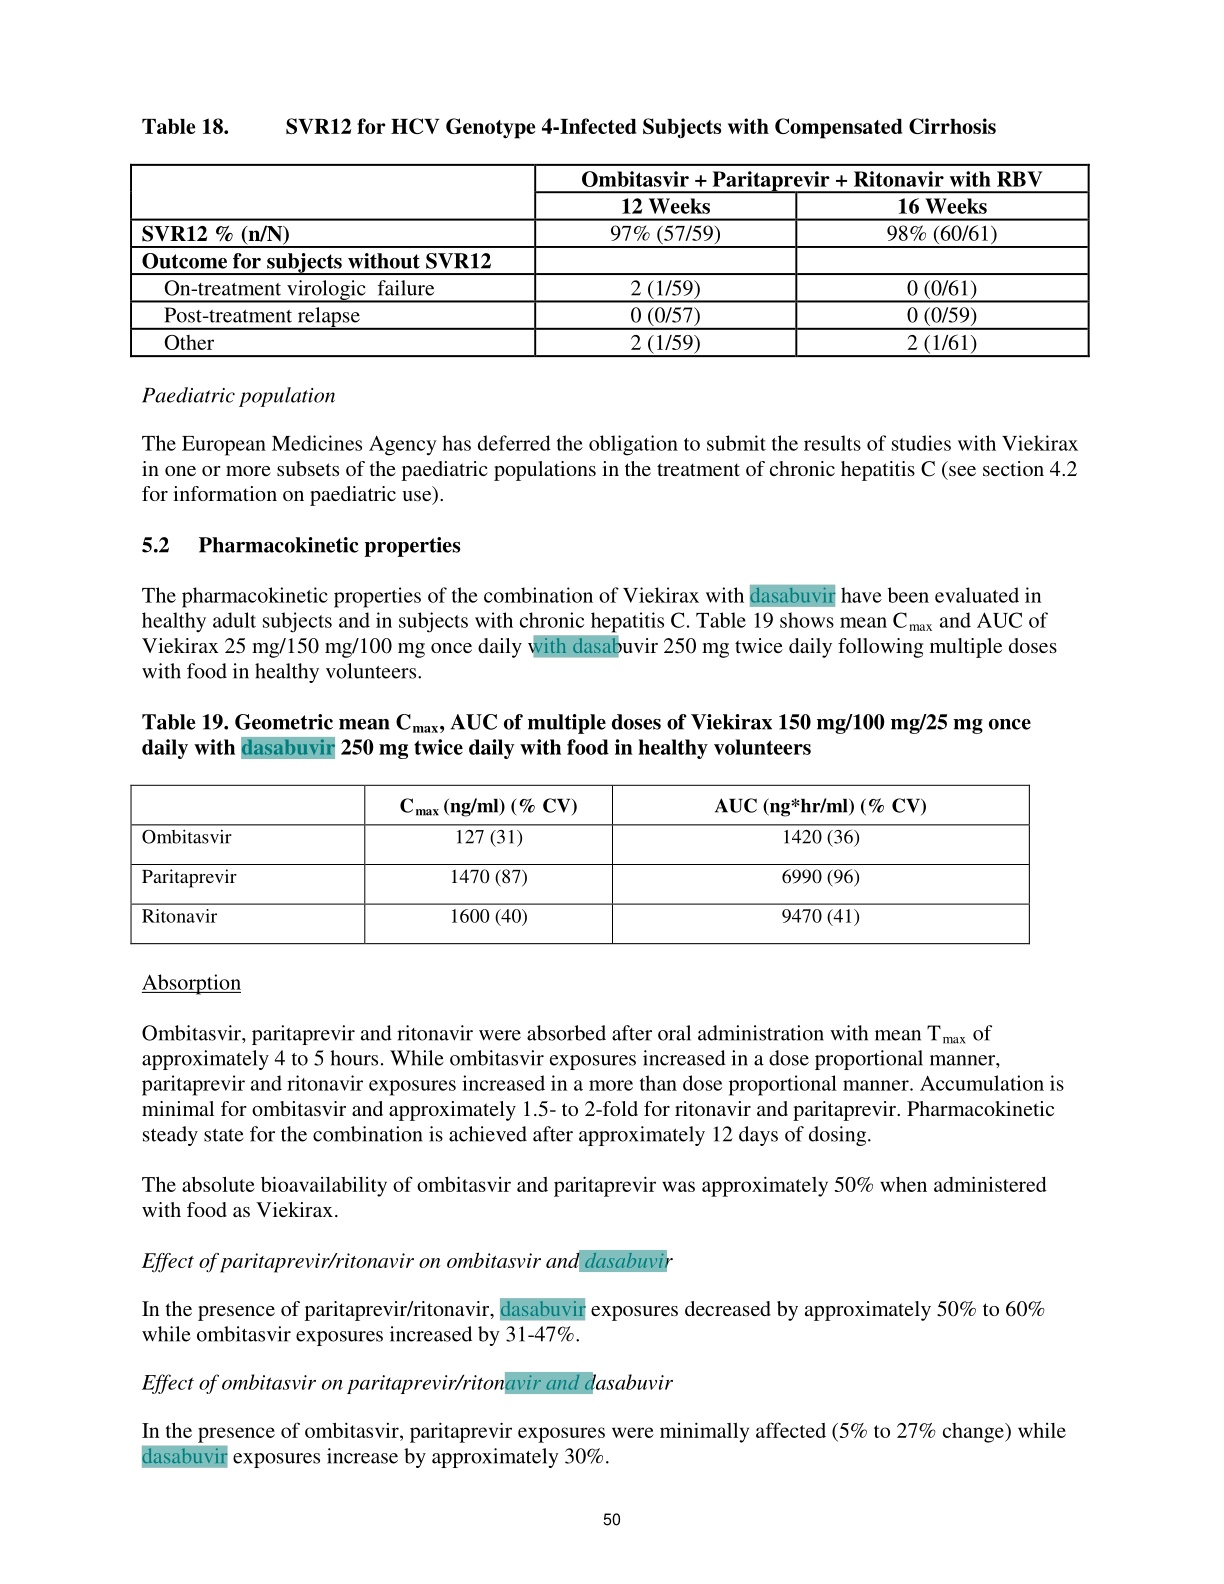full_lined: (129, 784, 1031, 945)
merged_cells: (129, 163, 1092, 357)
